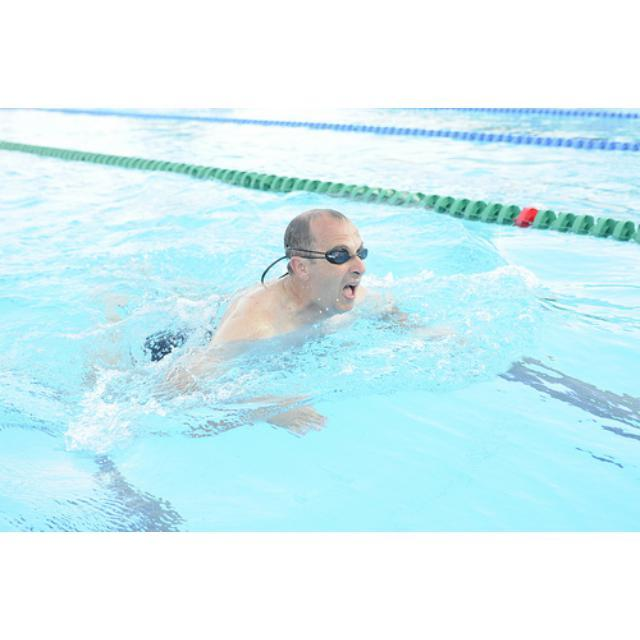human: (120, 203, 405, 443)
